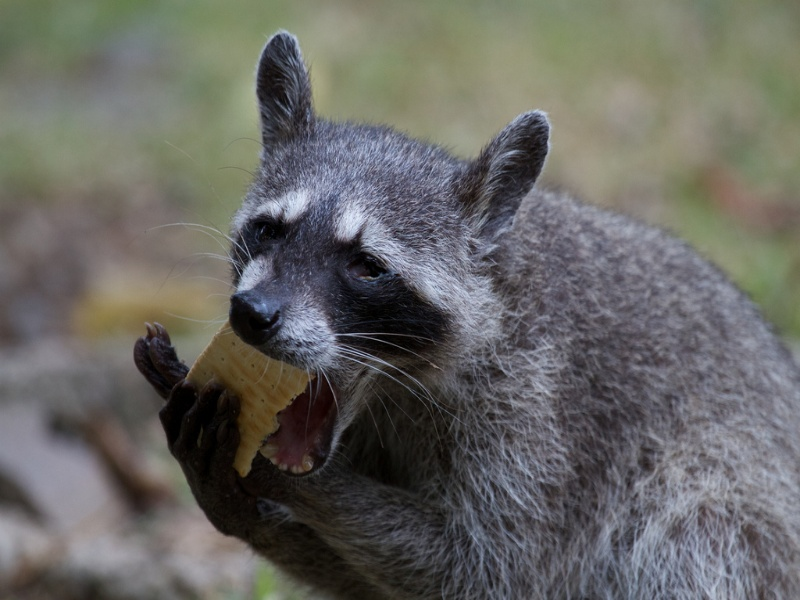raccoon: (131, 31, 798, 598)
